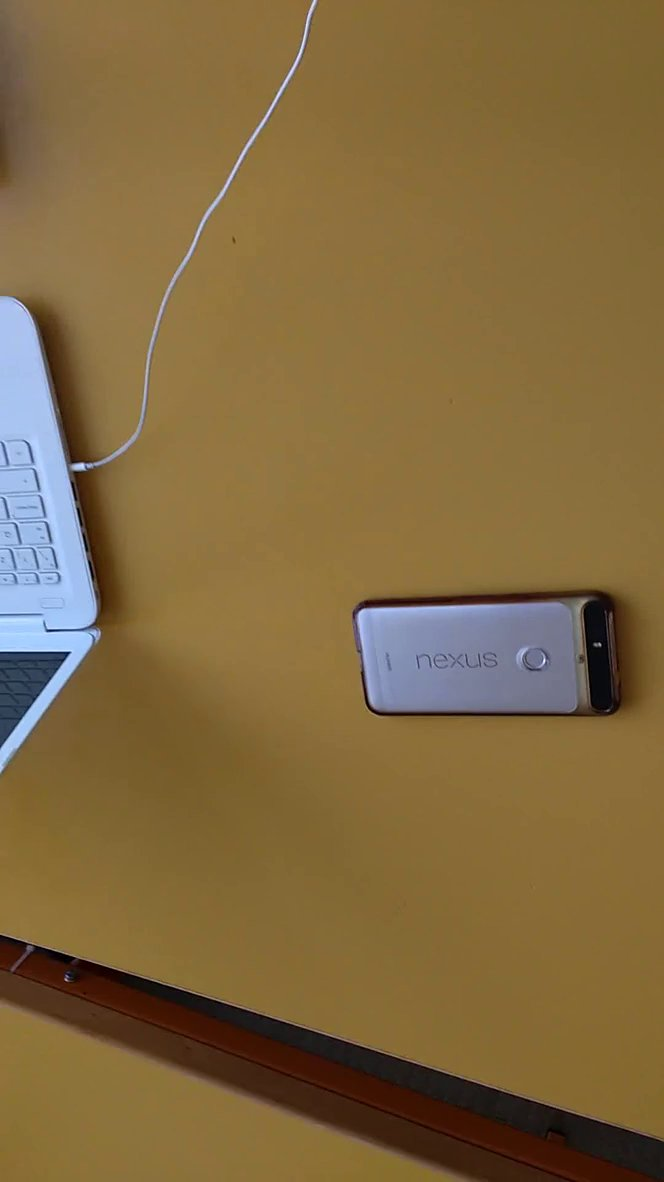phone: (327, 553, 636, 751)
